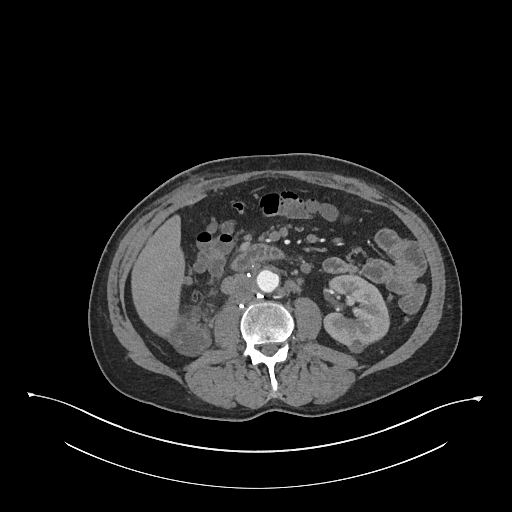Lesion: (346, 338, 367, 356)
